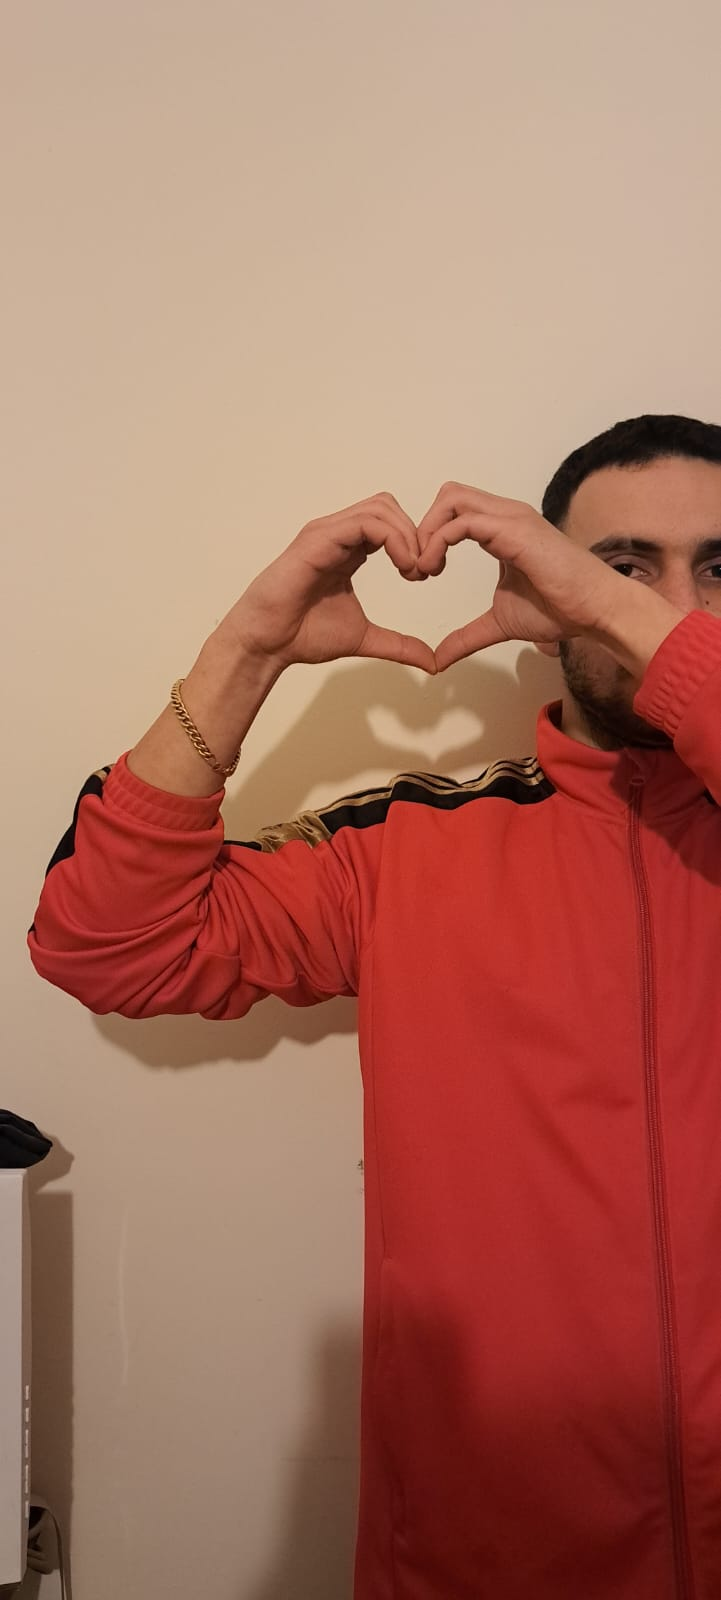cuore: (234, 476, 641, 698)
